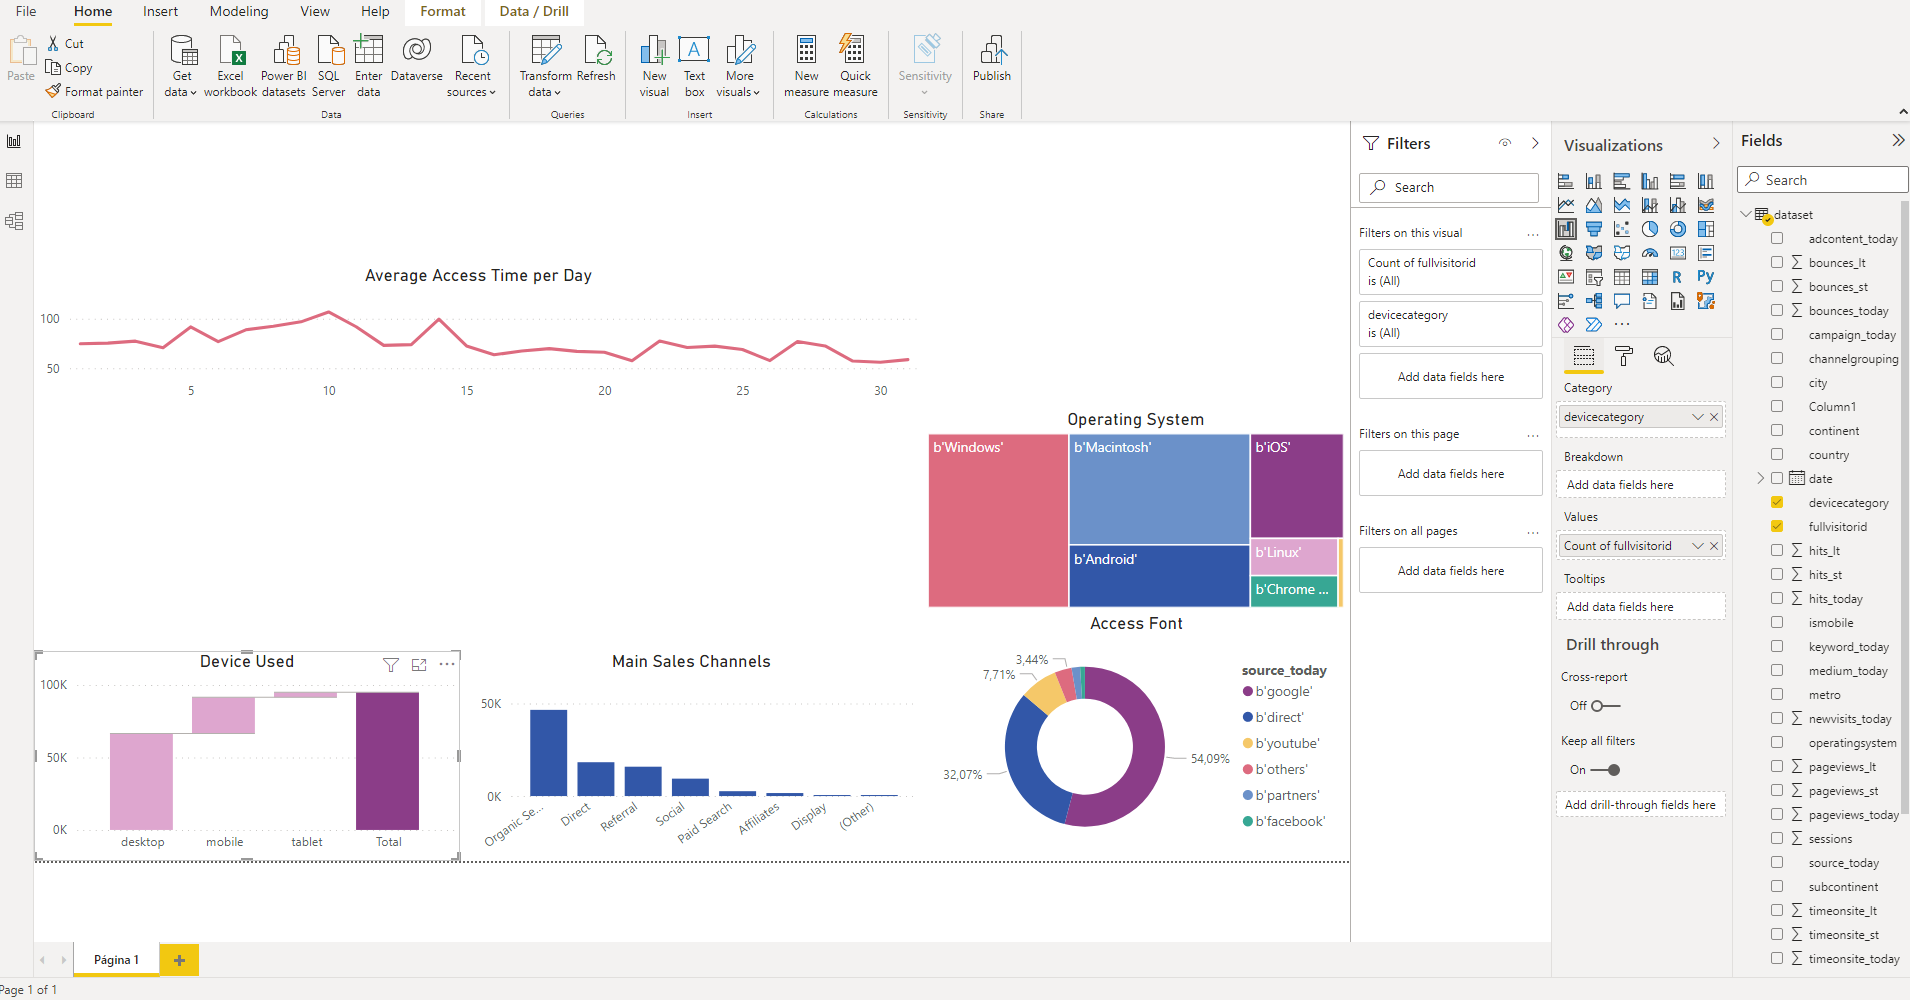

The page's visual inventory and layout, read from the dashboard file:
{"tool":"powerbi","page":{"name":"Página 1","canvas":[1280,720],"ordinal":0},"visuals":[{"type":"columnChart","title":"Main Sales Channels","fields":{"Y":["CountNonNull(dataset.fullvisitorid)"],"Category":["dataset.channelgrouping"]},"box":[414.3,515.5,450.3,204.3],"z":0},{"type":"lineChart","title":"Average Access Time per Day","fields":{"Category":["dataset.date.Variation.Hierarquia de datas.Dia"],"Y":["Avg(dataset.timeonsite_st)"]},"box":[0,140.1,864.7,161.5],"z":1000},{"type":"donutChart","title":"Access Font","fields":{"Category":["dataset.source_today"],"Y":["CountNonNull(dataset.fullvisitorid)"]},"box":[864.7,478.5,415.3,241.2],"z":2000},{"type":"treemap","title":"Operating System","fields":{"Group":["dataset.operatingsystem"],"Values":["CountNonNull(dataset.fullvisitorid)"]},"box":[864.7,301.5,414.3,177],"z":3000},{"type":"waterfallChart","title":"Device Used","fields":{"Y":["CountNonNull(dataset.fullvisitorid)"],"Category":["dataset.devicecategory"]},"box":[0,515.5,414.3,204.3],"z":3001},{"type":"areaChart","title":"Billing per Day","fields":{"Category":["dataset.date.Variation.Hierarquia de datas.Dia"],"Y":["Sum(dataset.transactionrevenue_st)"]},"box":[0,301.5,864.7,176],"z":3002},{"type":"kpi","title":"KPI Pageviews/Day","fields":{"TrendLine":["dataset.date.Variation.Hierarquia de datas.Dia"],"Indicator":["Avg(dataset.pageviews_st)"],"Goal":["dataset.goal"]},"box":[864.7,140.1,414.3,161.5],"z":3003},{"type":"shape","box":[1,45.7,1279,12.6],"z":3004},{"type":"textbox","box":[296.7,0,685.7,45.7],"z":3005},{"type":"slicer","title":"Country","fields":{"Values":["dataset.country"]},"box":[1.9,58.4,1278.1,81.7],"z":3006}]}

Visuals, with their boxes on the page's 1280x720 design canvas (x1, y1, x2, y2). These are canvas units, not pixel positions in the 1910x1000 screenshot, which may show the page scaled, cropped or inside an application window:
"Main Sales Channels" columnChart: bbox=[414, 516, 865, 720]
"Average Access Time per Day" lineChart: bbox=[0, 140, 865, 302]
"Access Font" donutChart: bbox=[865, 478, 1280, 720]
"Operating System" treemap: bbox=[865, 302, 1279, 478]
"Device Used" waterfallChart: bbox=[0, 516, 414, 720]
"Billing per Day" areaChart: bbox=[0, 302, 865, 478]
"KPI Pageviews/Day" kpi: bbox=[865, 140, 1279, 302]
shape: bbox=[1, 46, 1280, 58]
textbox: bbox=[297, 0, 982, 46]
"Country" slicer: bbox=[2, 58, 1280, 140]
